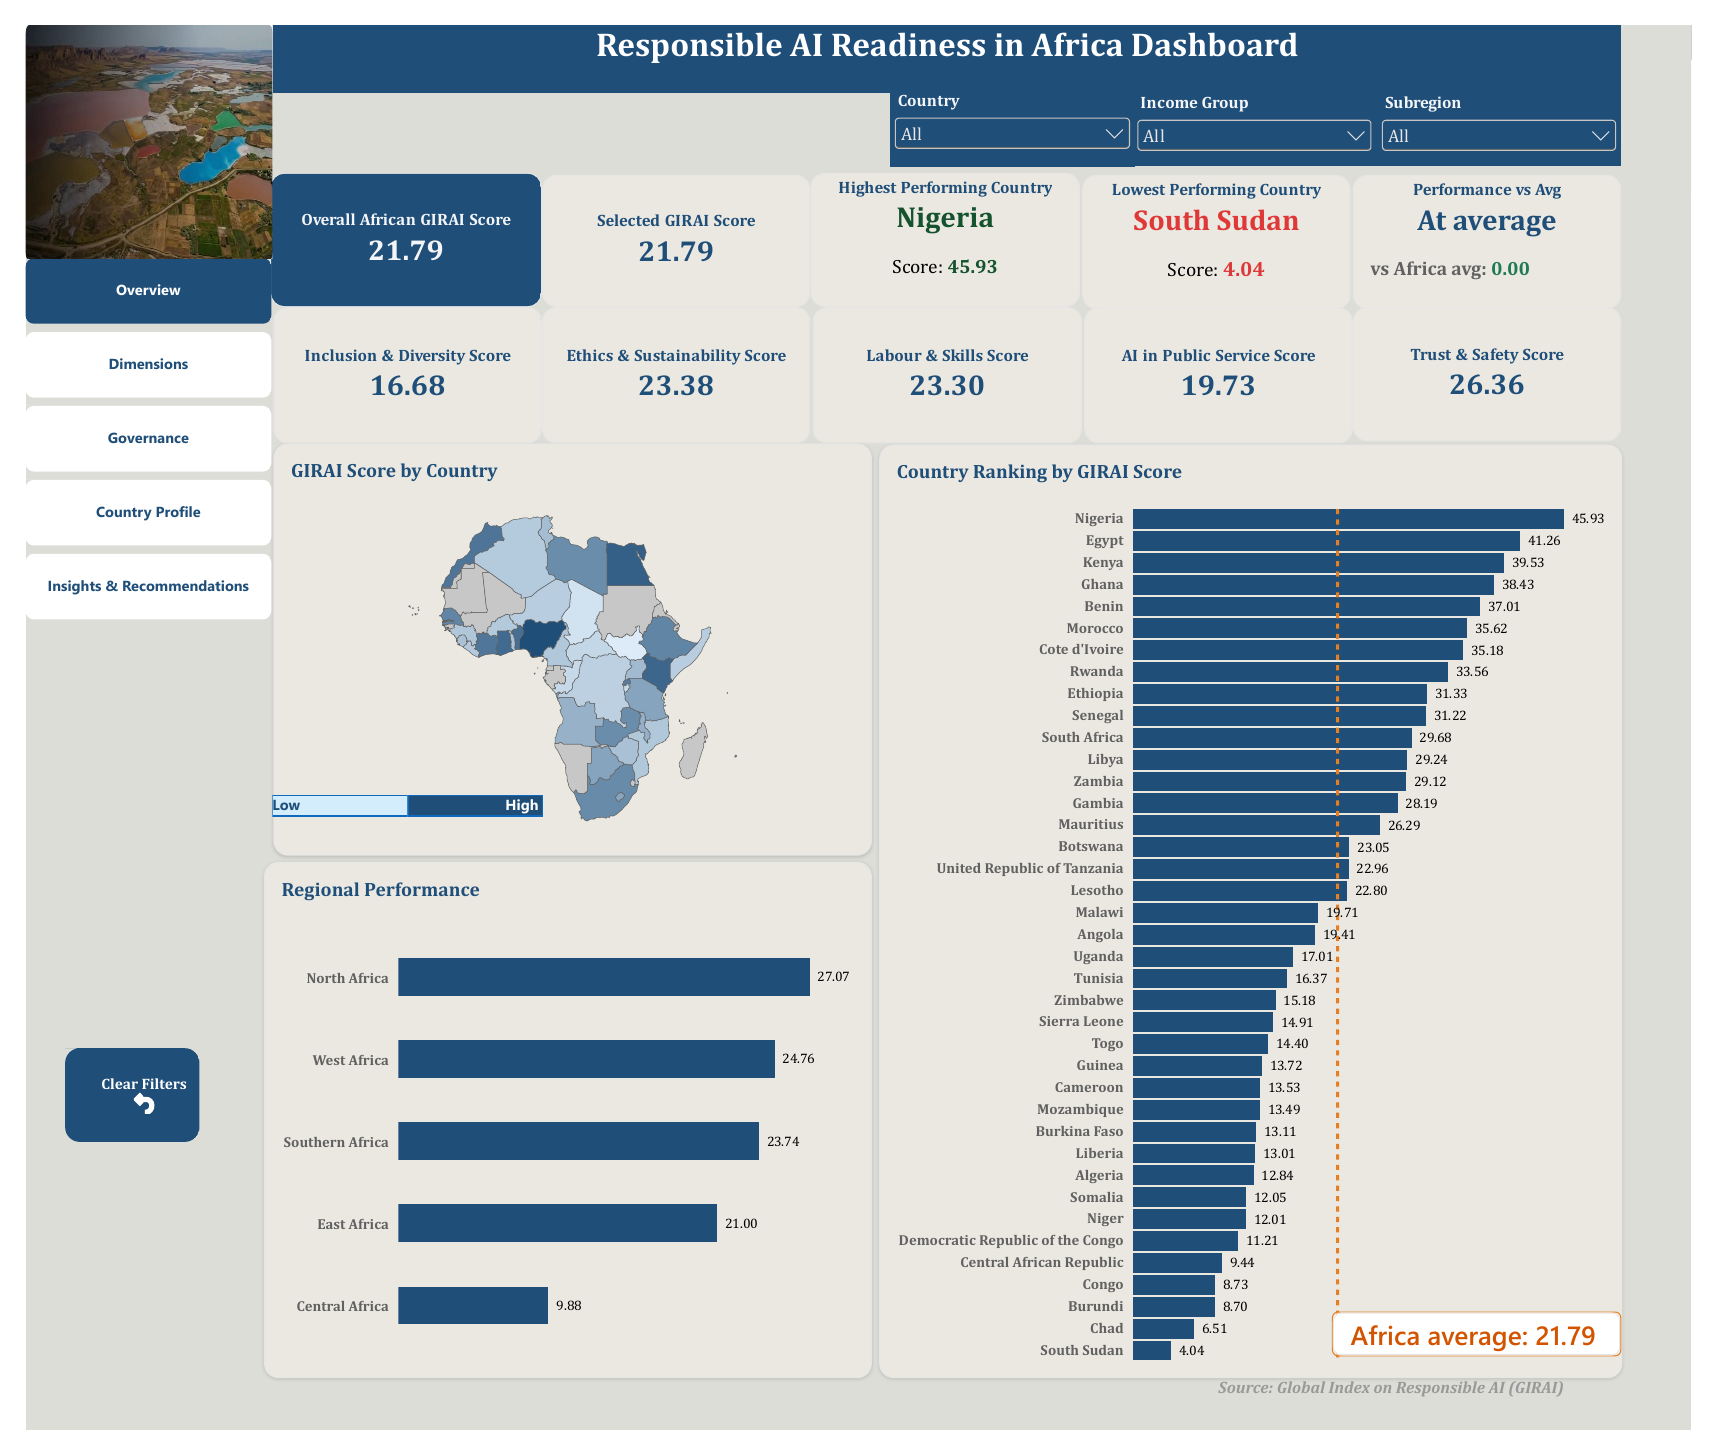

This screenshot's page, from the dashboard's own definition file:
{"tool":"powerbi","page":{"name":"Overview ","canvas":[1600,1350],"ordinal":0},"visuals":[{"type":"textbox","box":[237.5,0,1295.8,64.6],"z":0},{"type":"shape","box":[237.1,740,130,20],"z":0,"group":"g1"},{"type":"cardVisual","fields":{"Data":["Measures (3).Africa Avg Score"]},"box":[235.4,141.7,260.4,129.2],"z":1000},{"type":"shape","box":[367.1,740,130,20],"z":1000,"group":"g1"},{"type":"cardVisual","fields":{"Data":["Measures (3).Selected GIRAI Score"]},"box":[495.8,143.8,258.3,127.1],"z":2000},{"type":"textbox","box":[460.9,740,36.2,20],"z":2000,"group":"g1"},{"type":"cardVisual","fields":{"Data":["Measures (3).Bottom Country"]},"box":[1014.6,143.8,258.3,129.2],"z":3000},{"type":"textbox","box":[237.1,740,45,20],"z":3000,"group":"g1"},{"type":"cardVisual","fields":{"Data":["Measures (3).Top Country"]},"box":[754.2,141.7,258.3,129.2],"z":4000},{"type":"cardVisual","fields":{"Data":["Measures (3).Performance vs Avg"]},"box":[1275,143.8,258.3,129.2],"z":5000},{"type":"cardVisual","fields":{"Data":["Measures (3).Inclusion & Diversity Score"]},"box":[237.5,270.8,258.3,131.2],"z":6000},{"type":"cardVisual","fields":{"Data":["Measures (3).Ethics & Sustainability Score"]},"box":[495.8,270.8,258.3,131.2],"z":7000},{"type":"cardVisual","fields":{"Data":["Measures (3).Labour & Skills Score"]},"box":[756.2,270.8,258.3,131.2],"z":8000},{"type":"cardVisual","fields":{"Data":["Measures (3).AI in Public Service Score"]},"box":[1016.7,270.8,258.3,131.2],"z":9000},{"type":"cardVisual","fields":{"Data":["Measures (3).Trust & Safety Score"]},"box":[1275,270.8,258.3,129.2],"z":10000},{"type":"shapeMap","title":"GIRAI Score by Country","fields":{"Category":["Dim_Country.ISO3"],"Value":["Measures (3).Selected GIRAI Score"]},"box":[237.5,402.1,575,395.8],"z":11000},{"type":"slicer","fields":{"Values":["Dim_Country.Subregion"]},"box":[1297.9,64.6,235.4,70.8],"z":12000},{"type":"slicer","fields":{"Values":["Dim_Country.Income Group"]},"box":[1062.5,64.6,235.4,70.8],"z":13000},{"type":"slicer","fields":{"Values":["Dim_Country.Country"]},"box":[830,62.9,235.7,72.9],"z":14000},{"type":"group","id":"g1","title":"Group 1","box":[237.1,740,260,20],"z":15000},{"type":"clusteredBarChart","title":"Country Ranking by GIRAI Score","fields":{"Category":["Dim_Country.Country"],"Y":["Measures (3).Selected GIRAI Score"]},"box":[820,402.9,714.3,897.1],"z":16000},{"type":"clusteredBarChart","title":"Regional Performance","fields":{"Category":["Dim_Country.Subregion"],"Y":["Measures (3).Selected GIRAI Score"]},"box":[229.2,804.2,583.3,495.8],"z":17000},{"type":"textbox","box":[1145.7,1300,388.6,48.6],"z":18000},{"type":"cardVisual","title":"Africa Avg Score","fields":{"Data":["Measures (3).Africa Avg Label"]},"box":[1254.5,1236.4,278.8,42.4],"z":19000},{"type":"pageNavigator","box":[0,223.7,235.6,350.8],"z":20000},{"type":"image","box":[0,0,237.3,223.7],"z":21000},{"type":"actionButton","box":[37.5,983.3,129.2,89.6],"z":22000}]}

Visuals, with their boxes in screenshot pixels (x1, y1, x2, y2), scaled from the page's 1600x1350 canvas onto the 1717x1456 screenshot:
textbox: box=[255, 0, 1645, 70]
shape: box=[254, 798, 394, 820]
cardVisual - Measures (3).Africa Avg Score: box=[253, 153, 532, 292]
shape: box=[394, 798, 533, 820]
cardVisual - Measures (3).Selected GIRAI Score: box=[532, 155, 809, 292]
textbox: box=[495, 798, 533, 820]
cardVisual - Measures (3).Bottom Country: box=[1089, 155, 1366, 294]
textbox: box=[254, 798, 303, 820]
cardVisual - Measures (3).Top Country: box=[809, 153, 1087, 292]
cardVisual - Measures (3).Performance vs Avg: box=[1368, 155, 1645, 294]
cardVisual - Measures (3).Inclusion & Diversity Score: box=[255, 292, 532, 434]
cardVisual - Measures (3).Ethics & Sustainability Score: box=[532, 292, 809, 434]
cardVisual - Measures (3).Labour & Skills Score: box=[811, 292, 1089, 434]
cardVisual - Measures (3).AI in Public Service Score: box=[1091, 292, 1368, 434]
cardVisual - Measures (3).Trust & Safety Score: box=[1368, 292, 1645, 431]
"GIRAI Score by Country" shapeMap: box=[255, 434, 872, 861]
slicer - Dim_Country.Subregion: box=[1393, 70, 1645, 146]
slicer - Dim_Country.Income Group: box=[1140, 70, 1393, 146]
slicer - Dim_Country.Country: box=[891, 68, 1144, 146]
"Group 1" group: box=[254, 798, 533, 820]
"Country Ranking by GIRAI Score" clusteredBarChart: box=[880, 435, 1646, 1402]
"Regional Performance" clusteredBarChart: box=[246, 867, 872, 1402]
textbox: box=[1229, 1402, 1646, 1454]
"Africa Avg Score" cardVisual: box=[1346, 1333, 1645, 1379]
pageNavigator: box=[0, 241, 253, 620]
image: box=[0, 0, 255, 241]
actionButton: box=[40, 1061, 179, 1157]
